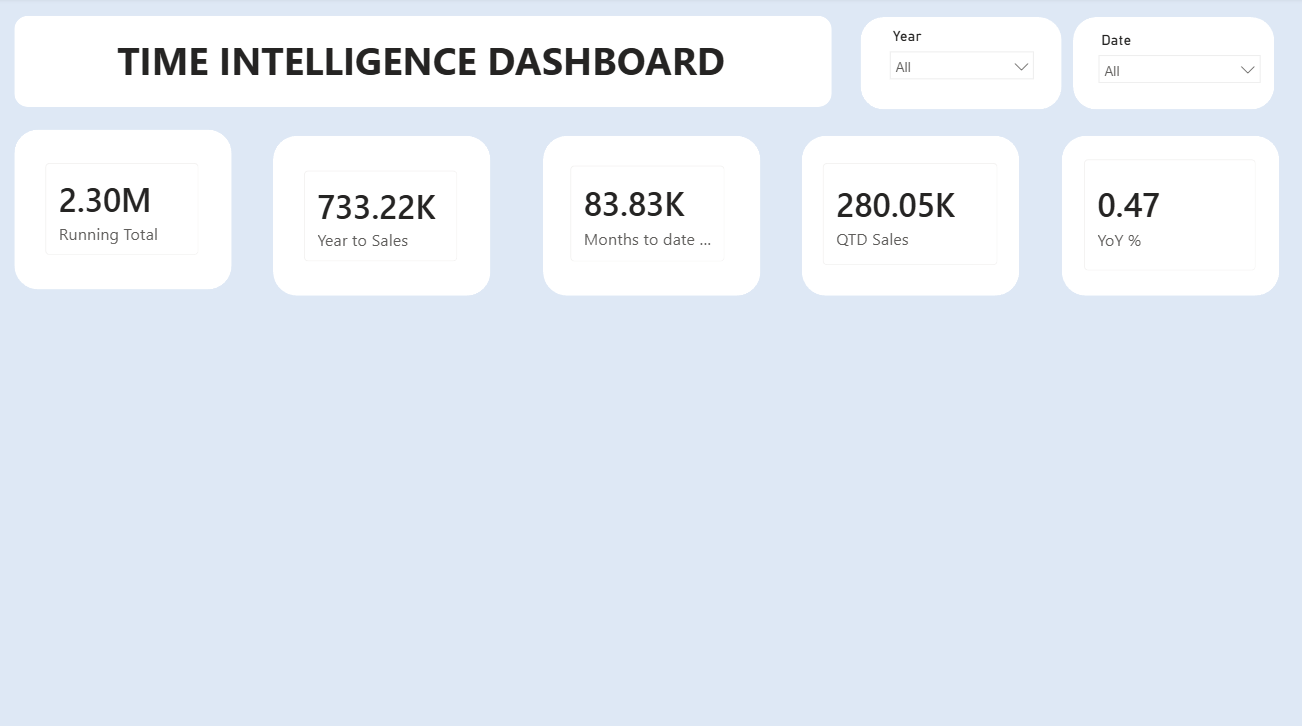

The page's visual inventory and layout, read from the dashboard file:
{"tool":"powerbi","page":{"name":"Time Intelligence","canvas":[1280,720],"ordinal":5},"visuals":[{"type":"shape","box":[1040.6,135.7,212.8,156.5],"z":0},{"type":"shape","box":[786.3,135.7,212.8,156.5],"z":1000},{"type":"shape","box":[533.2,135.7,212.8,156.5],"z":2000},{"type":"shape","box":[269,135.7,212.8,156.5],"z":3000},{"type":"shape","box":[15.9,129.6,212.8,156.5],"z":4000},{"type":"cardVisual","fields":{"Data":["Sample - Superstore.Year to Sales"]},"box":[282.5,152.9,184.6,123.5],"z":5000},{"type":"cardVisual","fields":{"Data":["Sample - Superstore.Months to date Sales"]},"box":[542.9,148,185.9,128.4],"z":6000},{"type":"cardVisual","fields":{"Data":["Sample - Superstore.QTD Sales"]},"box":[789.9,145.5,205.4,134.5],"z":7000},{"type":"cardVisual","fields":{"Data":["Sample - Superstore.YoY %"]},"box":[1045.5,141.8,203,143.1],"z":8000},{"type":"cardVisual","fields":{"Data":["Sample - Superstore.Running Total"]},"box":[29.3,145.5,184.6,124.7],"z":9000},{"type":"shape","box":[15.9,18.3,799.7,89.3],"z":10000},{"type":"textbox","box":[29.3,31.8,769.2,64.8],"z":11000},{"type":"shape","box":[843.8,19.6,196.9,90.5],"z":11001},{"type":"shape","box":[1051.6,19.6,196.9,90.5],"z":11002},{"type":"slicer","fields":{"Values":["Date Table.Year"]},"box":[862.1,24.5,161.4,74.6],"z":11003},{"type":"slicer","fields":{"Values":["Date Table.Date"]},"box":[1066.3,28.1,178.5,72.1],"z":11004}]}

Visuals, with their boxes in screenshot pixels (x1, y1, x2, y2), scaled from the page's 1280x720 canvas onto the 1302x726 screenshot:
shape: <box>1058,137,1275,295</box>
shape: <box>800,137,1016,295</box>
shape: <box>542,137,759,295</box>
shape: <box>274,137,490,295</box>
shape: <box>16,131,233,288</box>
cardVisual - Sample - Superstore.Year to Sales: <box>287,154,475,279</box>
cardVisual - Sample - Superstore.Months to date Sales: <box>552,149,741,279</box>
cardVisual - Sample - Superstore.QTD Sales: <box>803,147,1012,282</box>
cardVisual - Sample - Superstore.YoY %: <box>1063,143,1270,287</box>
cardVisual - Sample - Superstore.Running Total: <box>30,147,218,272</box>
shape: <box>16,18,830,108</box>
textbox: <box>30,32,812,97</box>
shape: <box>858,20,1059,111</box>
shape: <box>1070,20,1270,111</box>
slicer - Date Table.Year: <box>877,25,1041,100</box>
slicer - Date Table.Date: <box>1085,28,1266,101</box>
